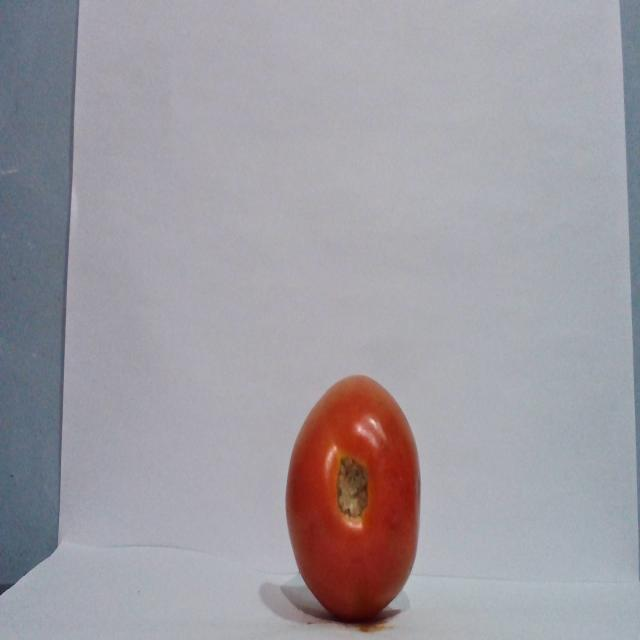Red: (283, 372, 421, 622)
